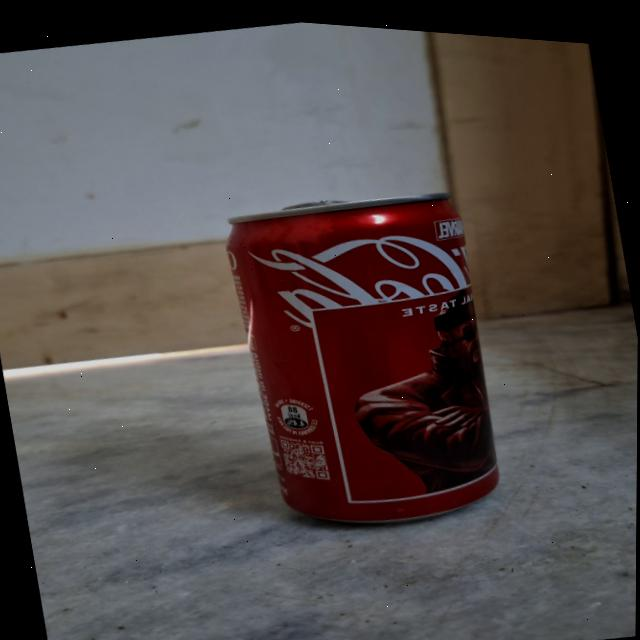Coca Cola - Marvel: (220, 169, 516, 536)
